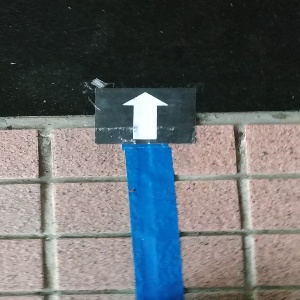straight: (93, 88, 196, 142)
